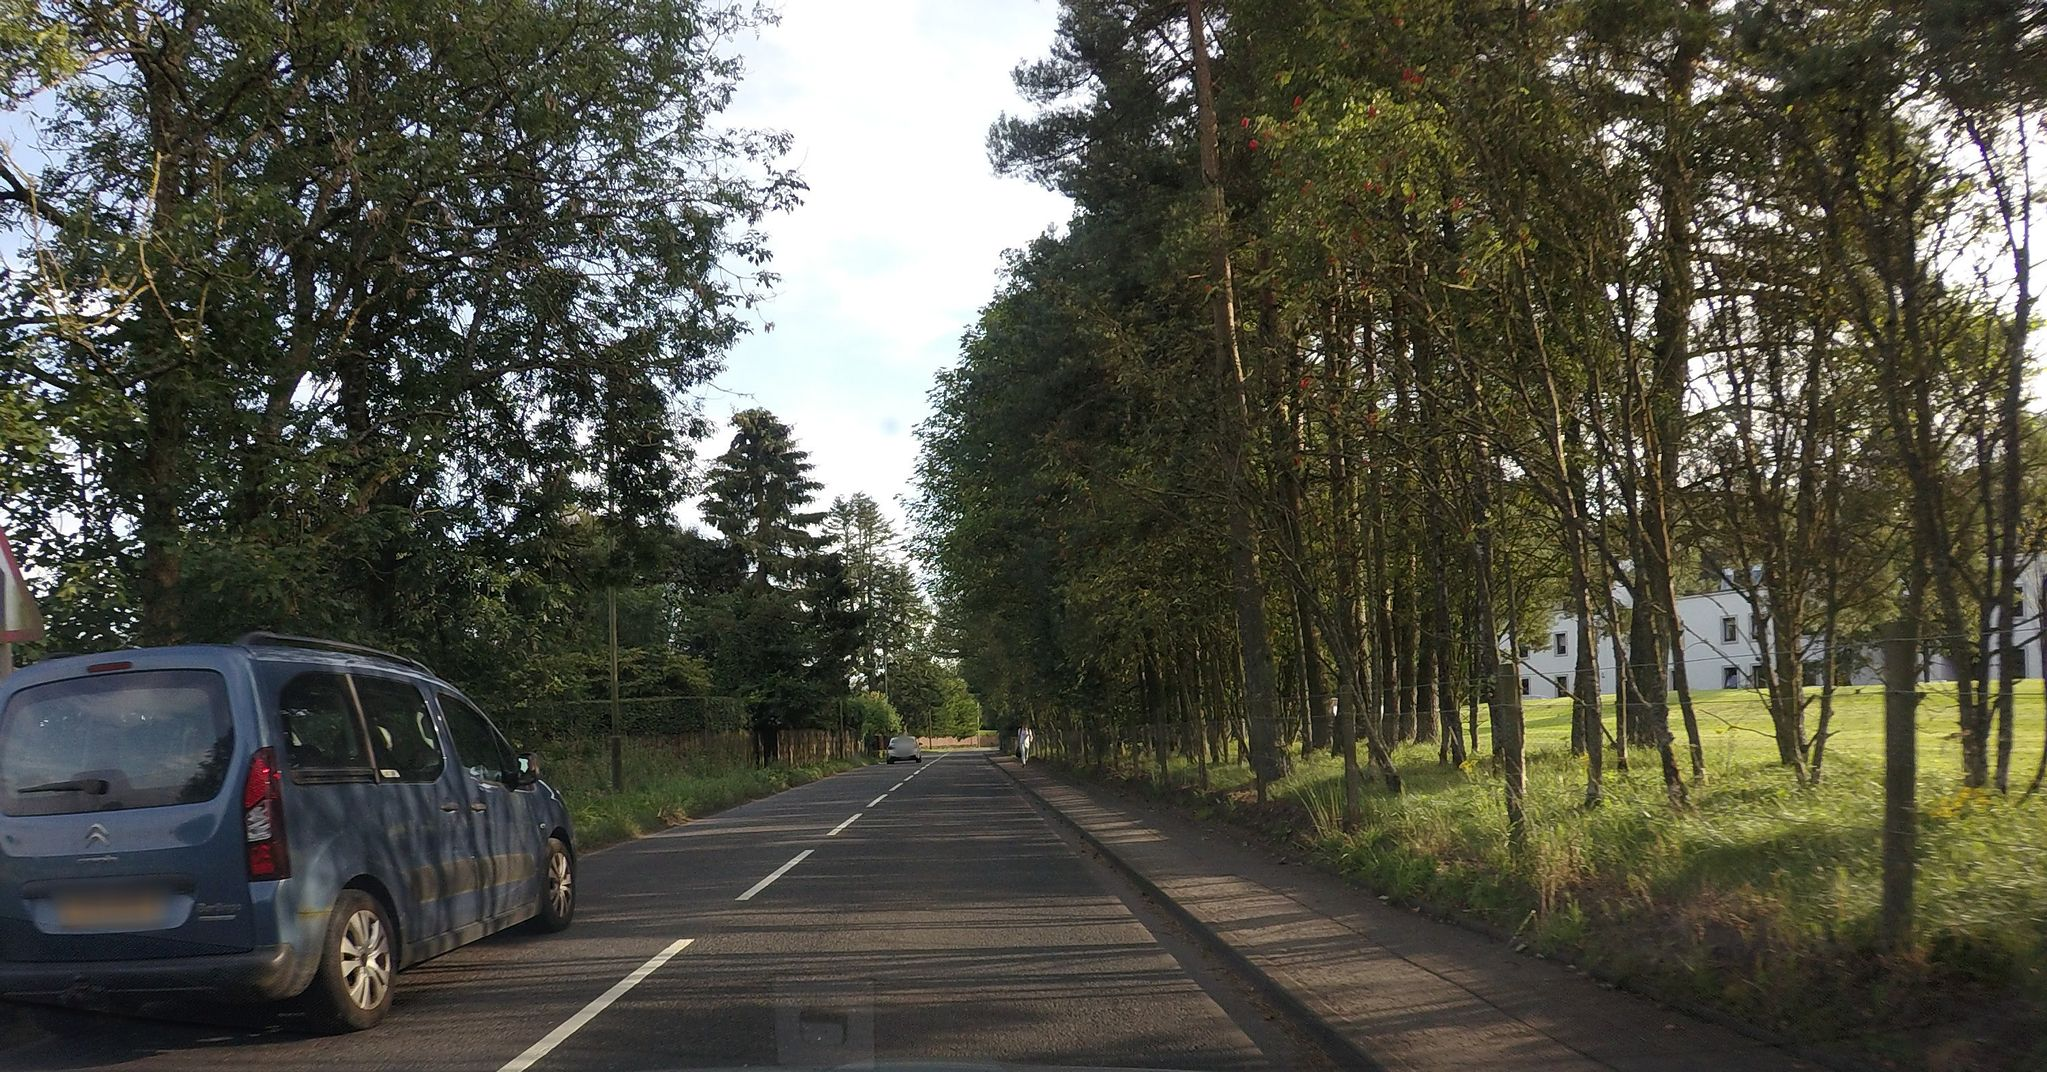car: (0, 628, 581, 1031), (885, 736, 923, 763)
